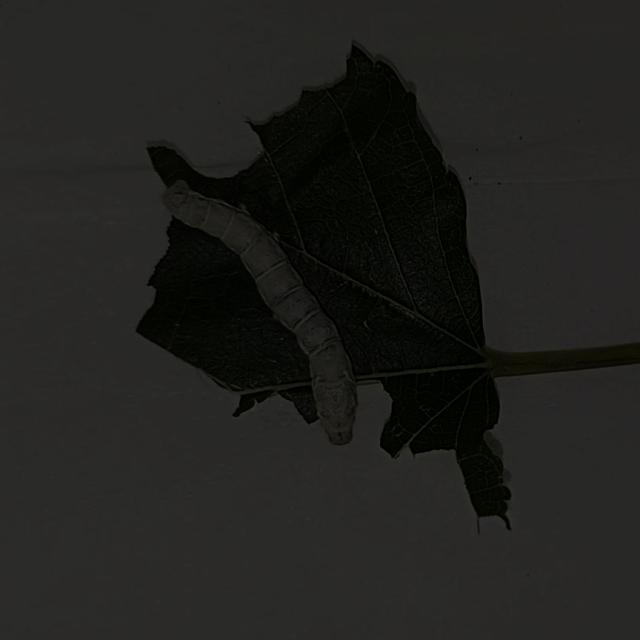Healthy: (154, 174, 368, 452)
